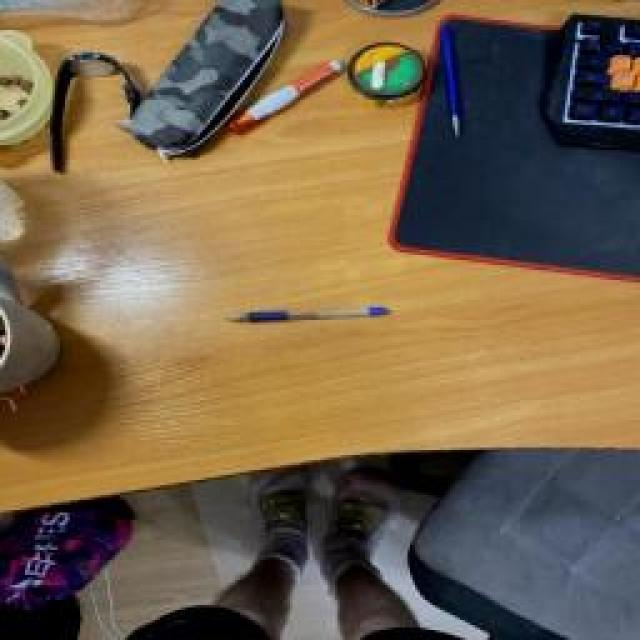pen: (225, 305, 390, 325)
